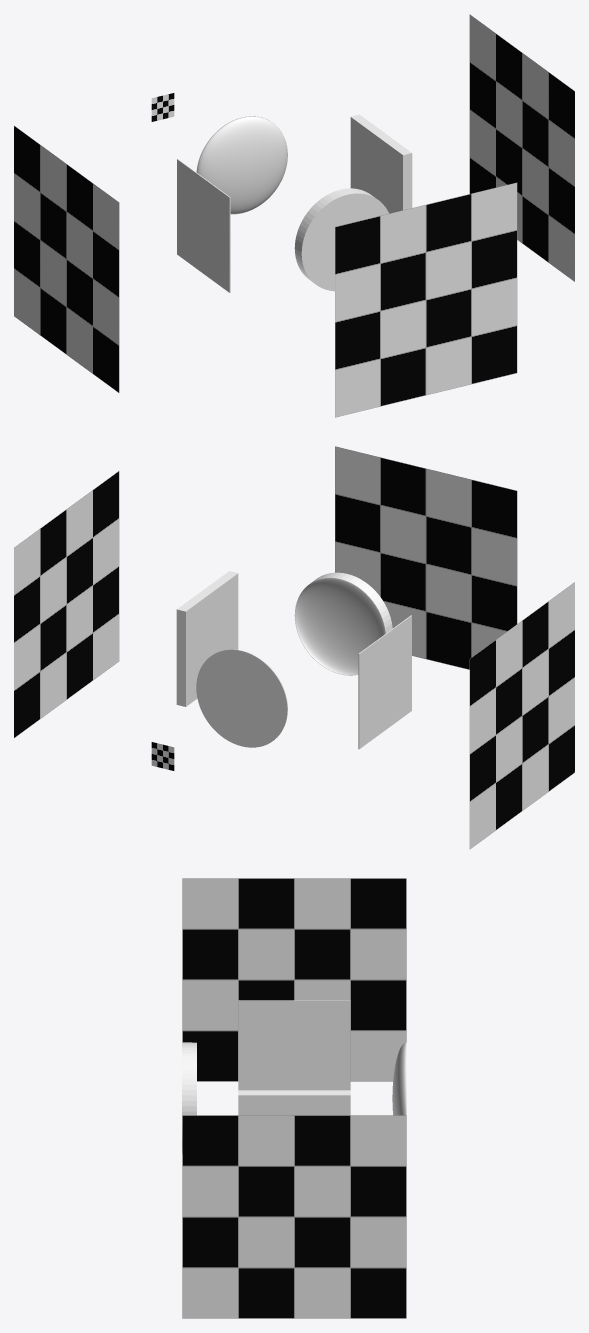
The model's file is lense2.glb.
3 renders of one model, top to bottom at view 1: azimuth 30°, elevation 25°; view 2: azimuth 150°, elevation 25°; view 3: azimuth 270°, elevation 25°, orthographic. The views are drawn at different scales.
Parts seen in each view (by area): view 1: Plane.001, Plane.003, Plane.002, Sphere, Cube, Plane, Sphere.001, Plane.004; view 2: Plane.001, Plane.003, Plane.002, Sphere.001, Sphere, Plane, Cube, Plane.004; view 3: Plane.002, Plane.003, Cube, Plane, Sphere.001, Sphere.
Part boxes in pixels (x1=…): Plane.001: x1=335, y1=182, x2=517, y2=417; Plane.003: x1=14, y1=126, x2=119, y2=392; Plane.002: x1=469, y1=14, x2=574, y2=281; Sphere: x1=196, y1=116, x2=287, y2=214; Cube: x1=177, y1=159, x2=230, y2=292; Plane: x1=350, y1=114, x2=412, y2=213; Sphere.001: x1=294, y1=188, x2=388, y2=291; Plane.004: x1=151, y1=93, x2=174, y2=121; Plane.001: x1=335, y1=446, x2=517, y2=669; Plane.003: x1=469, y1=582, x2=574, y2=849; Plane.002: x1=14, y1=471, x2=119, y2=737; Sphere.001: x1=294, y1=572, x2=392, y2=675; Sphere: x1=196, y1=649, x2=287, y2=747; Plane: x1=176, y1=571, x2=238, y2=706; Cube: x1=358, y1=615, x2=411, y2=749; Plane.004: x1=151, y1=742, x2=174, y2=770; Plane.002: x1=182, y1=1115, x2=406, y2=1318; Plane.003: x1=182, y1=878, x2=406, y2=1081; Cube: x1=238, y1=1000, x2=350, y2=1090; Plane: x1=238, y1=1090, x2=350, y2=1115; Sphere.001: x1=182, y1=1042, x2=196, y2=1154; Sphere: x1=392, y1=1042, x2=406, y2=1115.
Size of the model in its own units: 10 by 4 by 10.
Materials: 2 (1 with a texture image).
